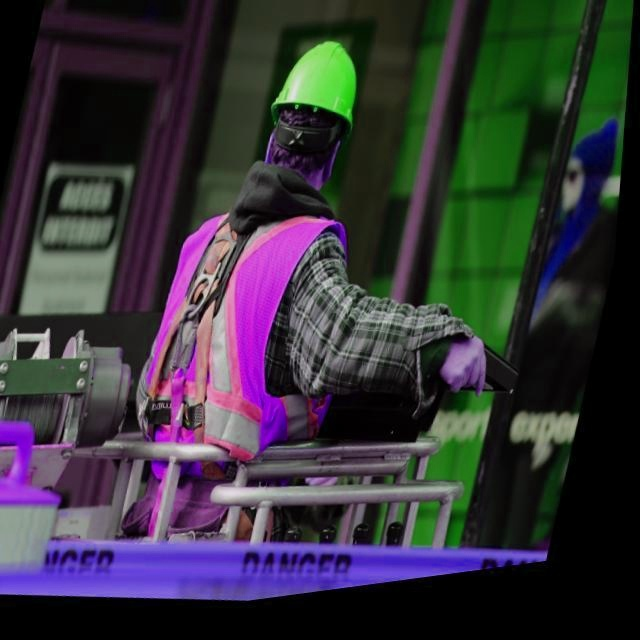safety belt: (131, 176, 314, 464)
